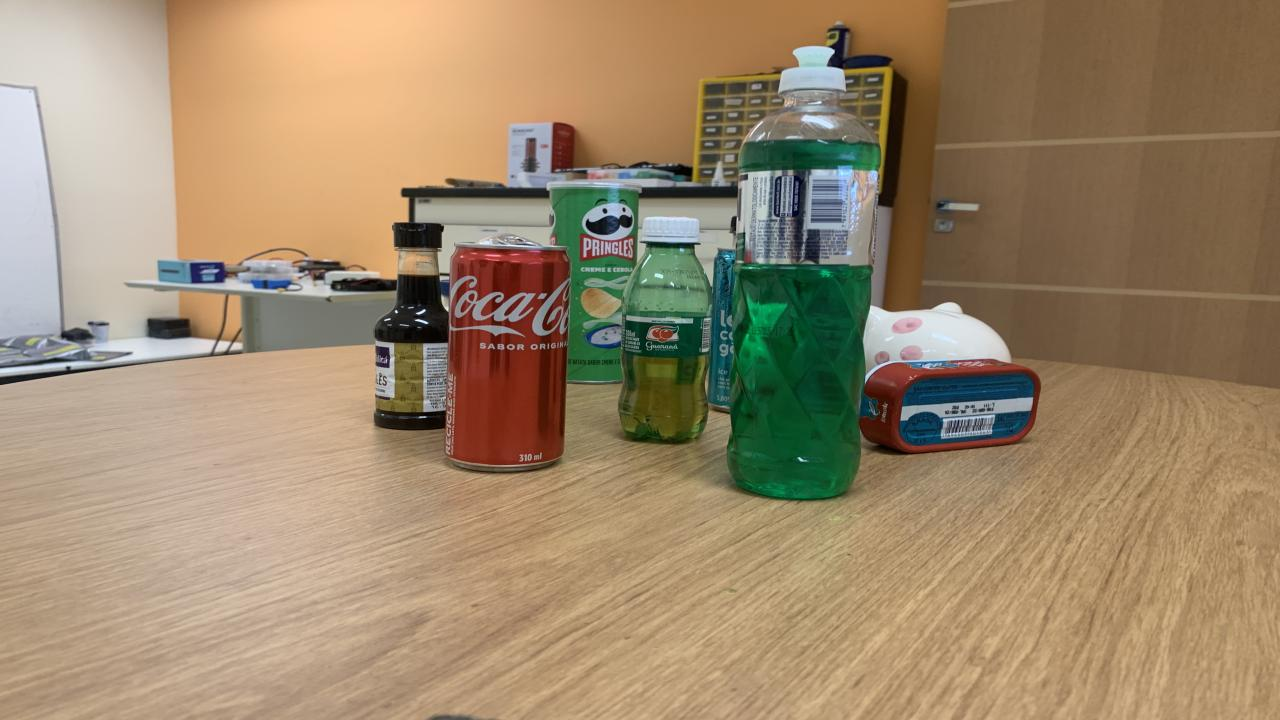Coke-Drinks: (445, 244, 570, 471)
Detergent-Cleanup_Items: (728, 47, 880, 499)
English_Sauce-Pantry_Items: (375, 223, 448, 429)
Guarana-Drinks: (620, 218, 712, 442)
Pig_Safe-Miscellaneous: (862, 302, 1010, 371)
Pringles-Snacks: (548, 180, 640, 382)
Tea-Drinks: (708, 249, 735, 412)
Tuna_Can-Pantry_Items: (860, 358, 1040, 454)
